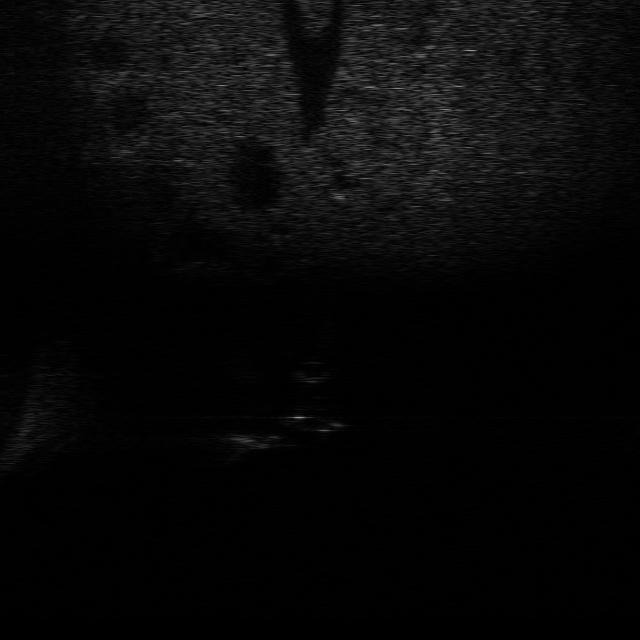ball: (284, 357, 338, 387)
square cage: (216, 428, 296, 462)
tyre: (280, 408, 354, 438)
